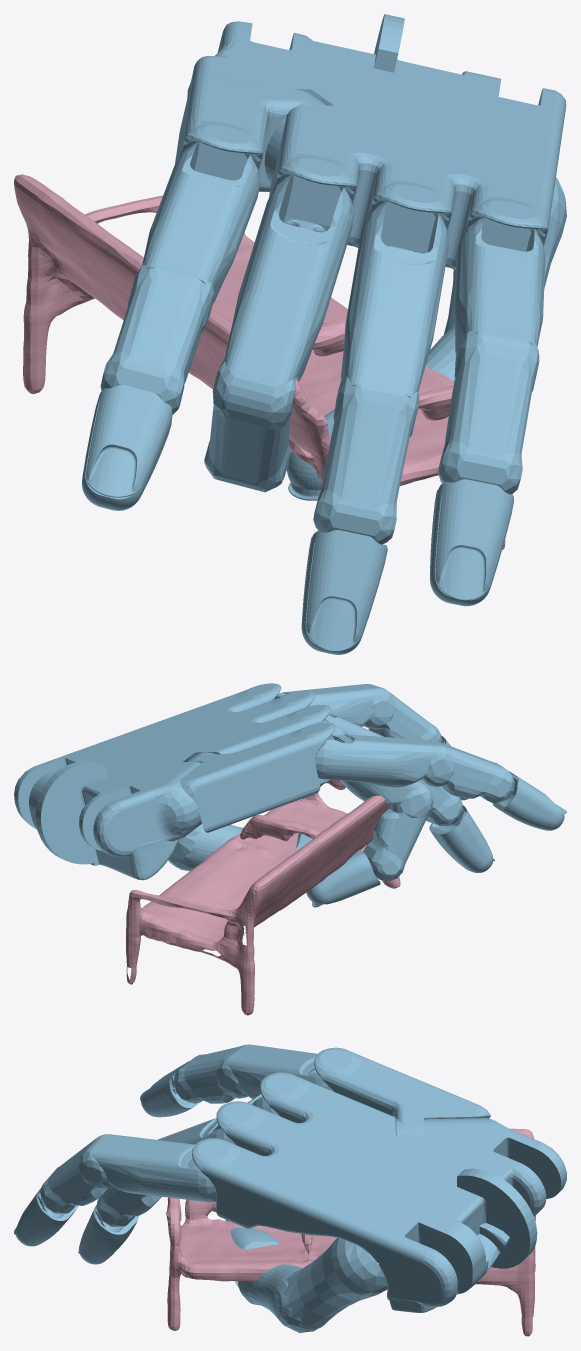
3 views of the same model, one above another, from view 1: azimuth 30°, elevation 25°; view 2: azimuth 150°, elevation 25°; view 3: azimuth 270°, elevation 25° (orthographic). The views are drawn at different scales.
Parts seen in each view (by area): view 1: hand_isaac_q, world; view 2: hand_isaac_q, world; view 3: hand_isaac_q, world.
Part boxes in pixels (x1,y1,x2,y2): hand_isaac_q: [82, 14, 566, 654]; world: [14, 174, 505, 549]; hand_isaac_q: [14, 683, 566, 907]; world: [126, 780, 400, 1015]; hand_isaac_q: [14, 1044, 566, 1332]; world: [166, 1128, 535, 1336].
Bounding box in the file's own units: 0.1813 × 0.0909 × 0.1961.
